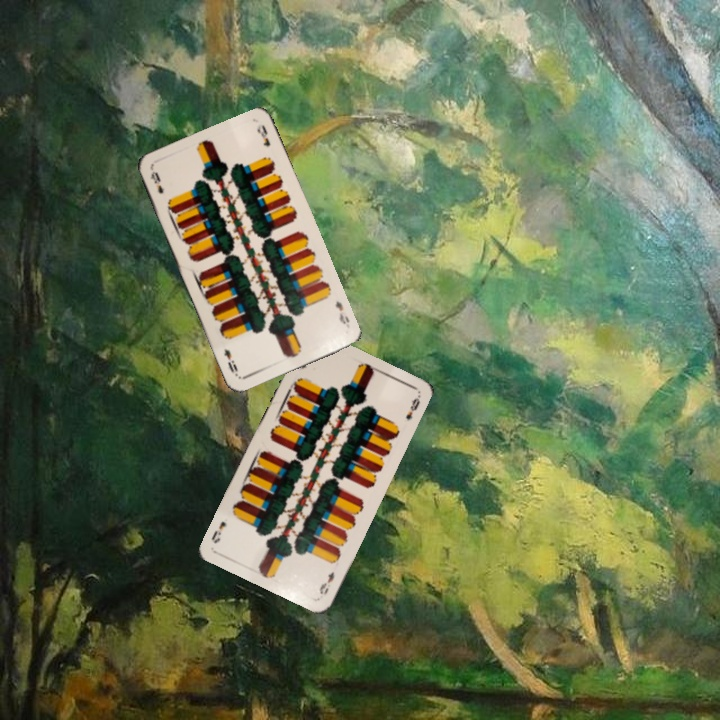E9: (315, 567, 337, 597), (331, 297, 352, 327), (146, 167, 166, 196)
